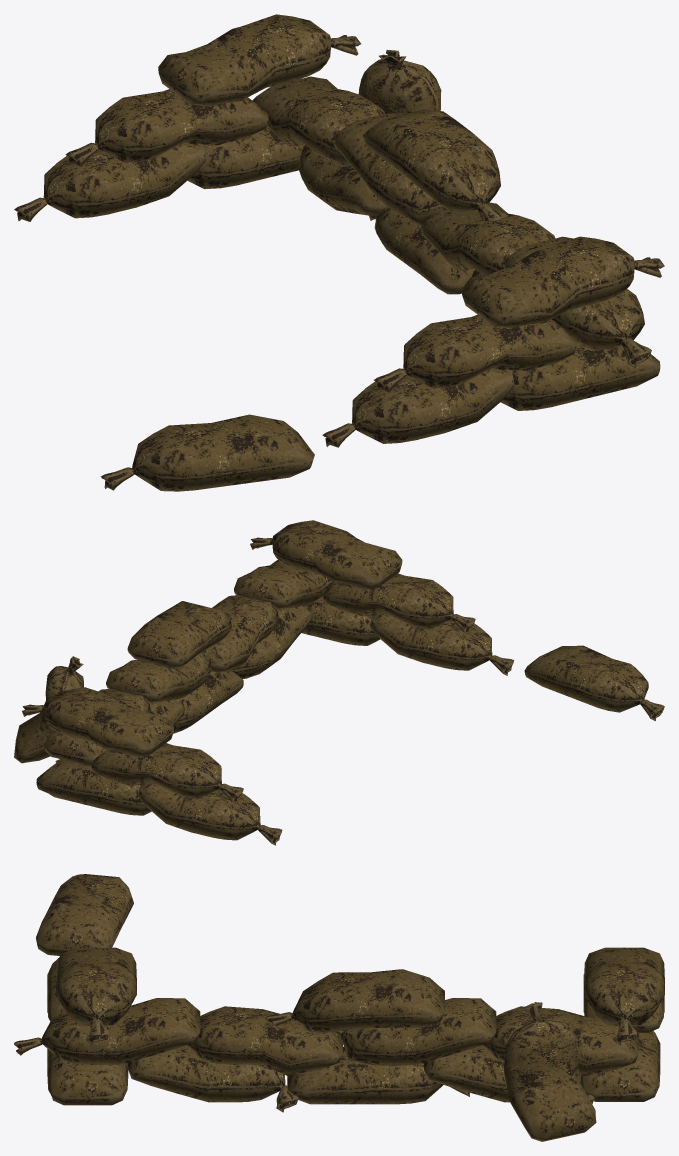
The model's file is bags_1.fbx.
The picture shows the model from 3 angles, top to bottom: view 1: azimuth 30°, elevation 25°; view 2: azimuth 150°, elevation 25°; view 3: azimuth 270°, elevation 25°; orthographic projection. The views are drawn at different scales.
Visible parts, largest first — view 1: bags_1; view 2: bags_1; view 3: bags_1.
Boxes of the visible parts, <box> form: bags_1: <box>14,14,664,491</box>; bags_1: <box>14,520,664,845</box>; bags_1: <box>14,874,664,1141</box>.
Bounding box in the file's own units: 364 × 76.42 × 388.
Materials: 1 (1 with a texture image).
